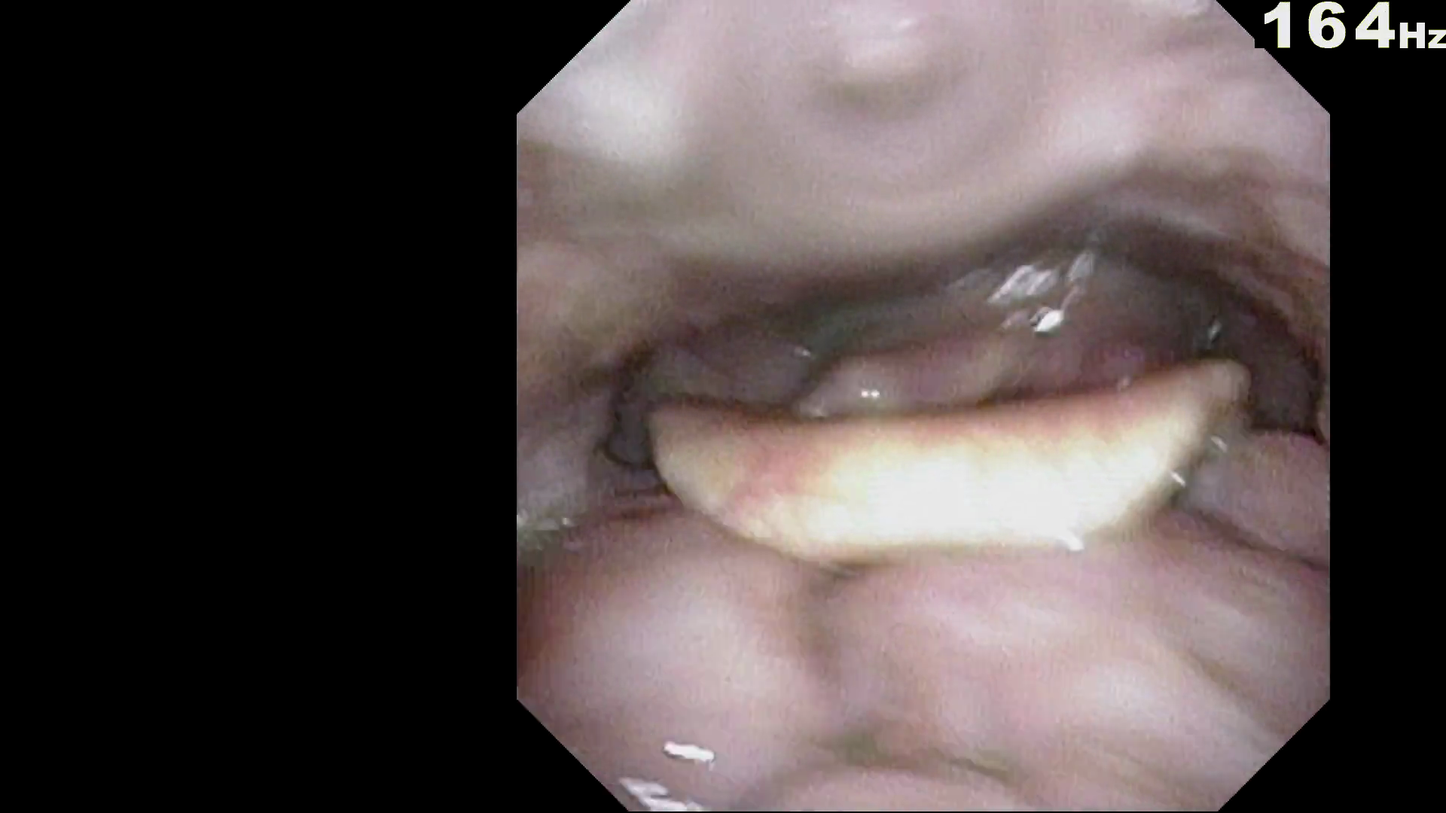epiglottis: (669, 434, 1253, 578)
